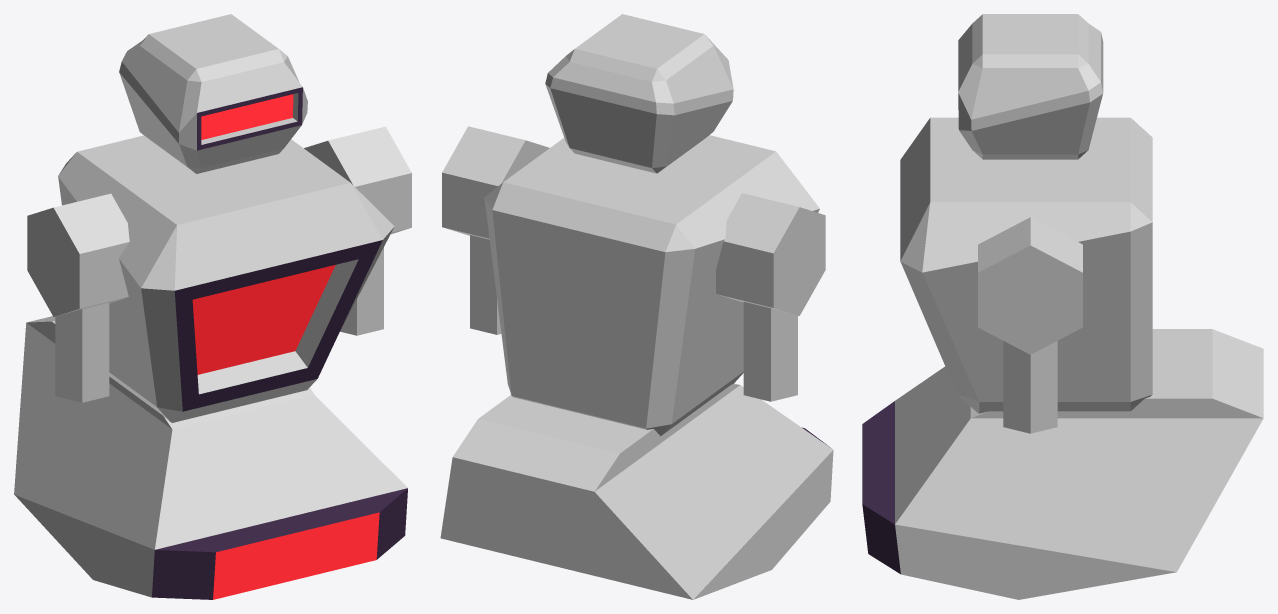
Rendered from RosieRobot01.glb.
3 views of the same model, side by side, from view 1: azimuth 30°, elevation 25°; view 2: azimuth 150°, elevation 25°; view 3: azimuth 270°, elevation 25° (orthographic).
Parts seen in each view (by area): view 1: Rosie; view 2: Rosie; view 3: Rosie.
Boxes of the visible parts, left/top/right/bottom form: Rosie: left=14, top=14, right=411, bottom=599; Rosie: left=440, top=14, right=833, bottom=599; Rosie: left=862, top=14, right=1263, bottom=599.
Bounding box in the file's own units: 2.43 × 3.51 × 2.53.
